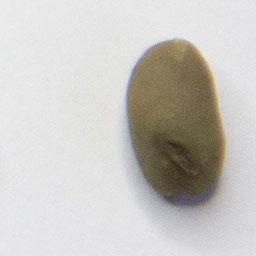peaberry: (123, 35, 229, 206)
